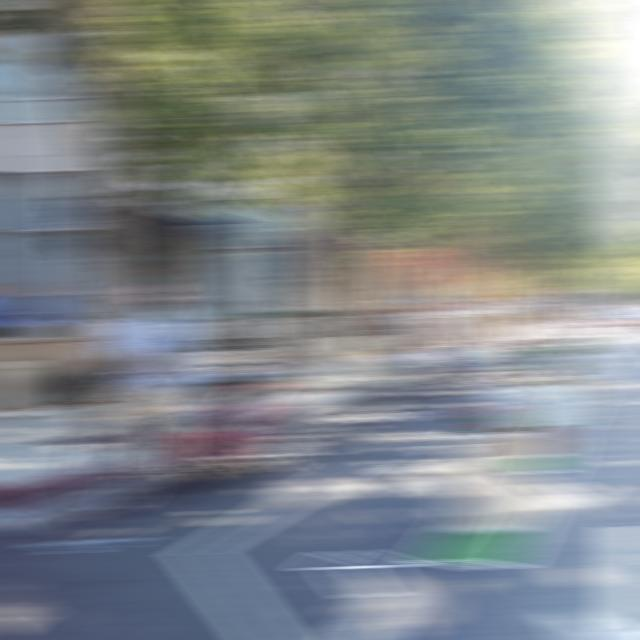With Helmet: (408, 289, 448, 314)
Without Helmet: (128, 276, 178, 310)
